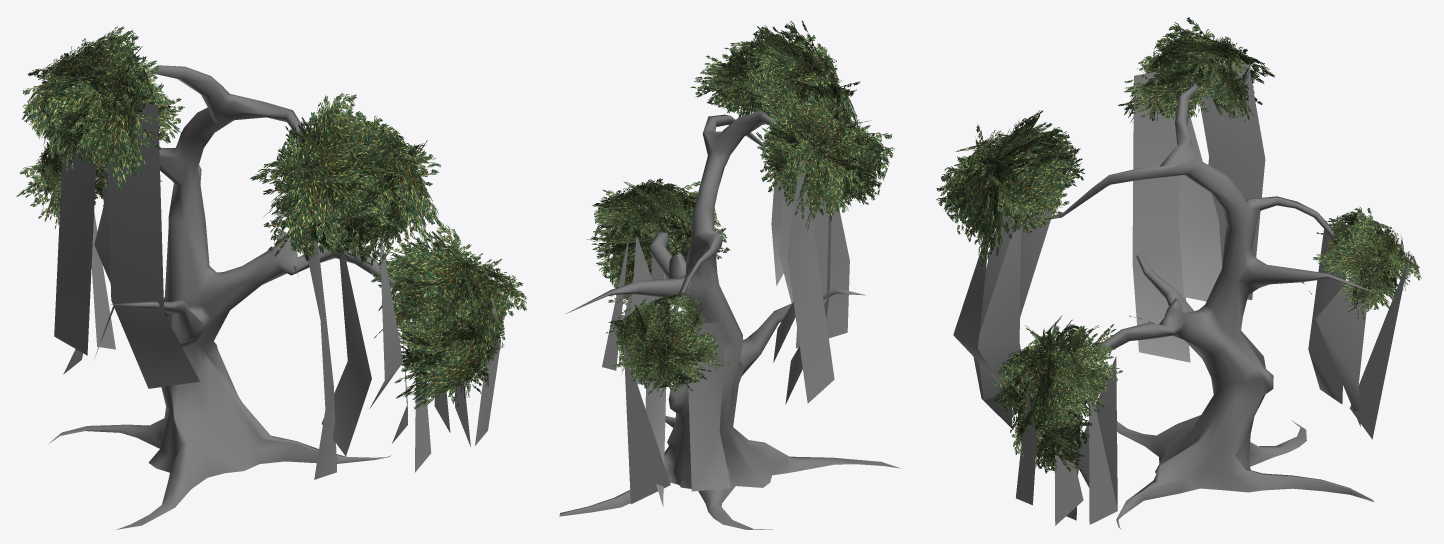
File: ekytree_lod1.fbx
3 views of the same model, side by side, from view 1: azimuth 30°, elevation 25°; view 2: azimuth 150°, elevation 25°; view 3: azimuth 270°, elevation 25° (orthographic). The views are drawn at different scales.
Visible parts, largest first — view 1: Default_Layer; view 2: Default_Layer; view 3: Default_Layer.
Boxes of the visible parts, <box> form: Default_Layer: <box>16,26,526,529</box>; Default_Layer: <box>559,20,899,529</box>; Default_Layer: <box>936,17,1421,529</box>.
Size of the model in its own units: 1608 by 1669 by 1880.
